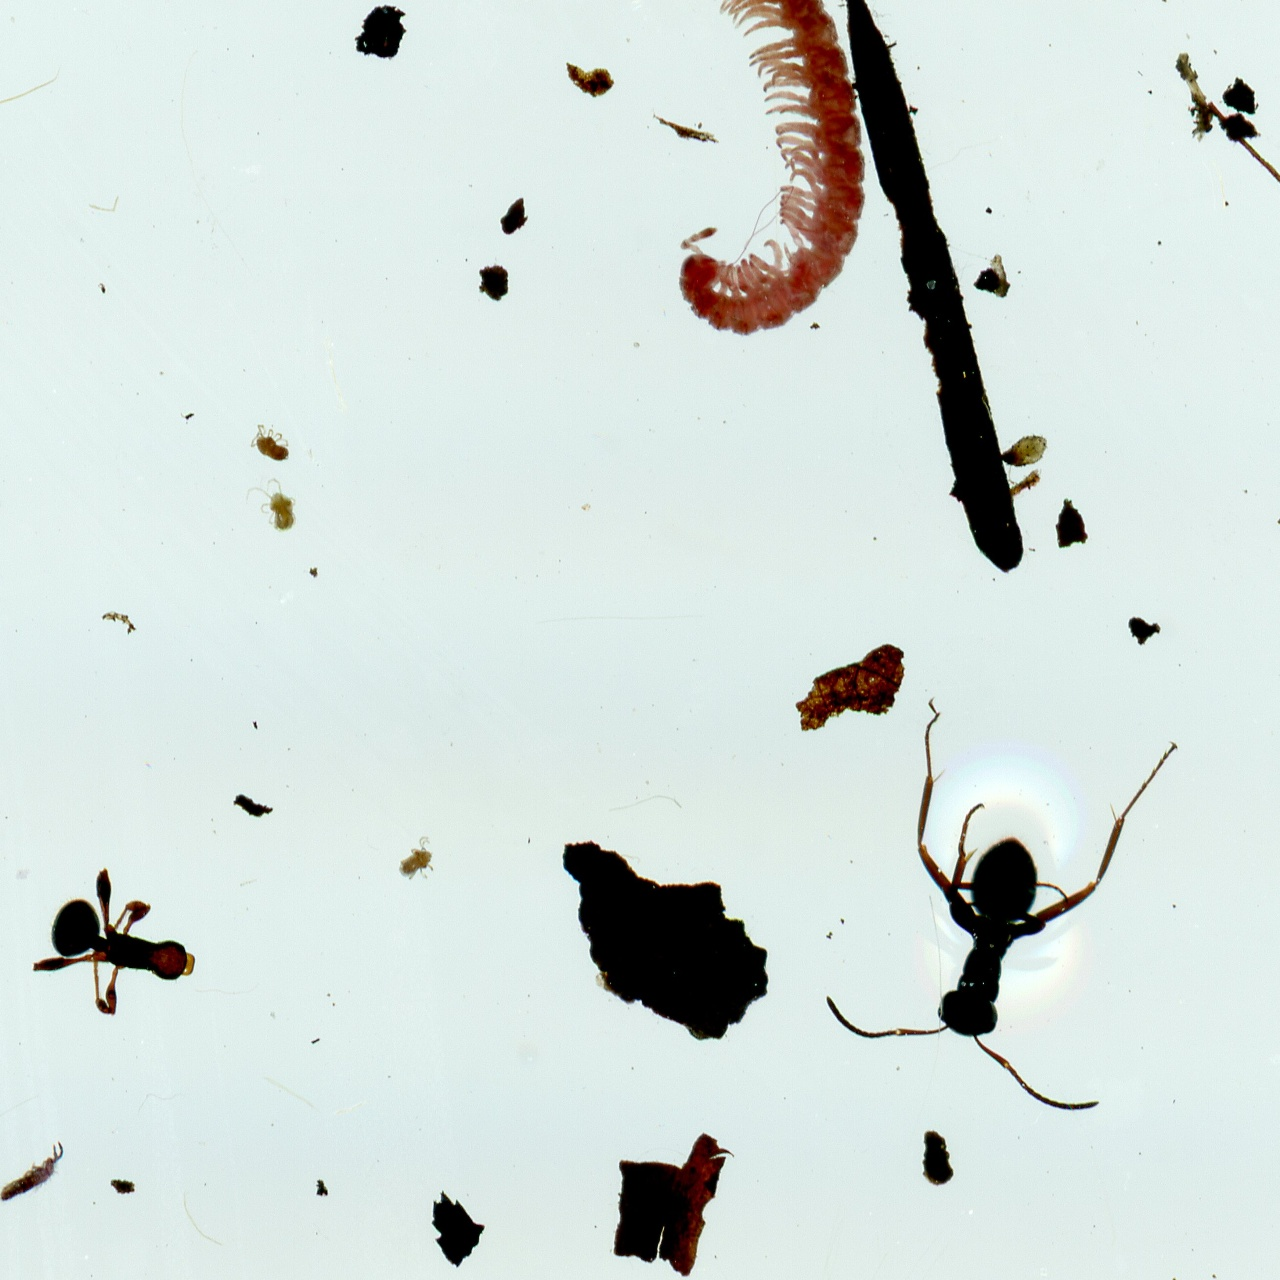arthropod: (815, 690, 1190, 1136), (610, 0, 907, 365), (26, 865, 198, 1019), (0, 1128, 82, 1223), (243, 474, 298, 535), (396, 834, 438, 886), (248, 421, 291, 465)
